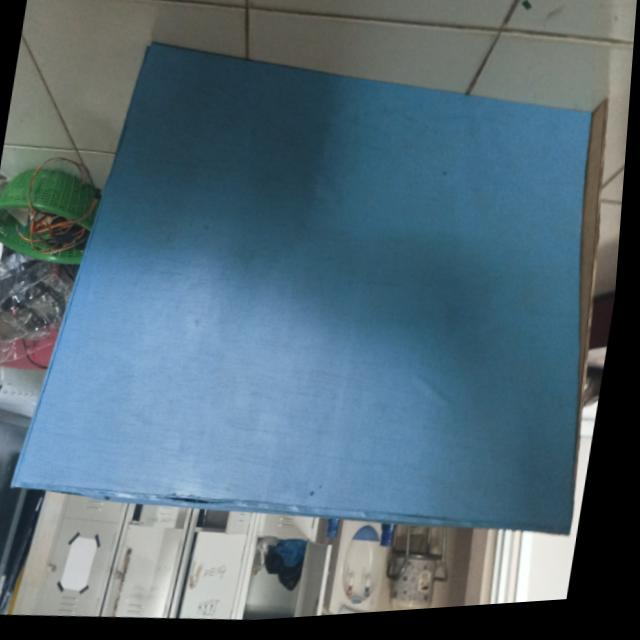blue_box: (0, 16, 637, 617)
